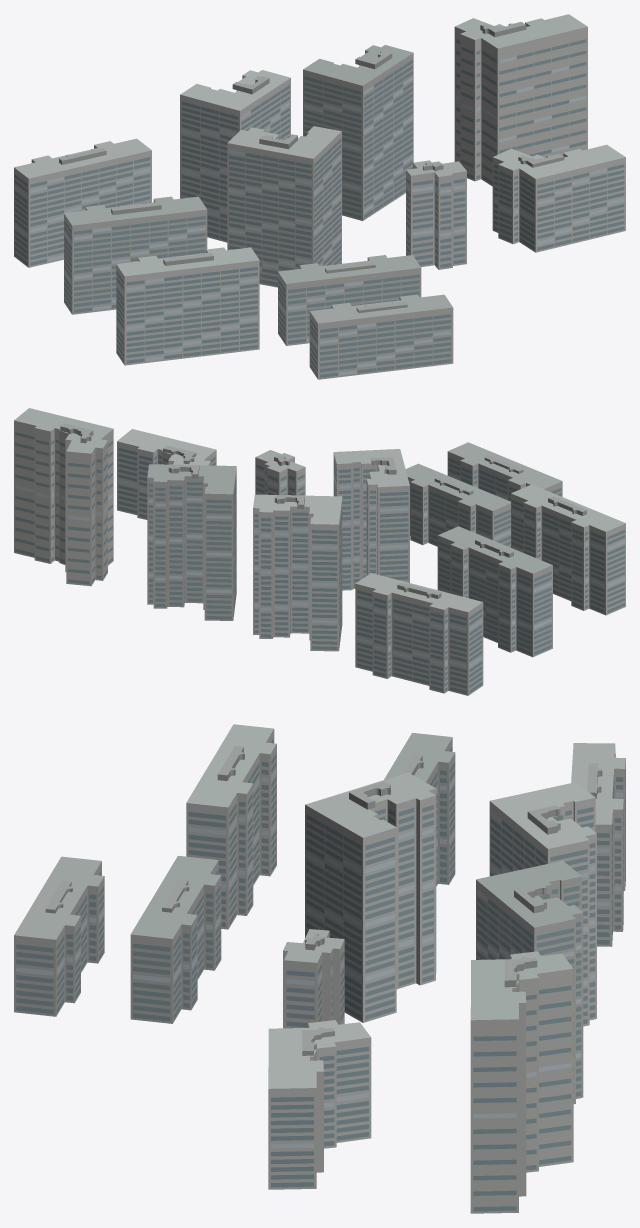
File: apt-a10023927.glb
The picture shows the model from 3 angles, top to bottom: view 1: azimuth 30°, elevation 25°; view 2: azimuth 150°, elevation 25°; view 3: azimuth 270°, elevation 25°; orthographic projection. The views are drawn at different scales.
Parts seen in each view (by area): view 1: apt-a10023927; view 2: apt-a10023927; view 3: apt-a10023927.
Boxes of the visible parts, <box> form: apt-a10023927: <box>14,14,625,379</box>; apt-a10023927: <box>14,408,625,695</box>; apt-a10023927: <box>14,724,625,1213</box>.
Size of the model in its own units: 283 by 72 by 200.
